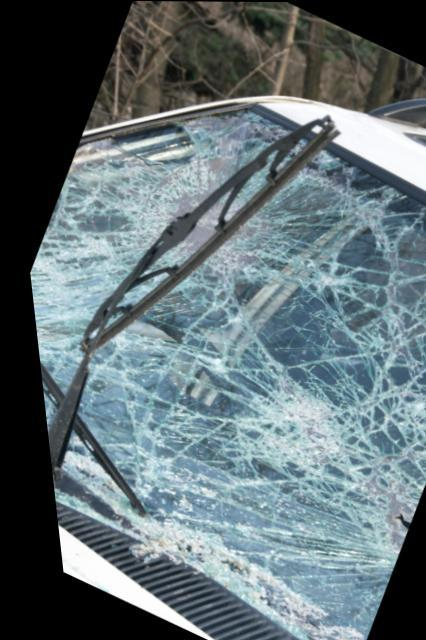glass shatter: (24, 107, 426, 640)
